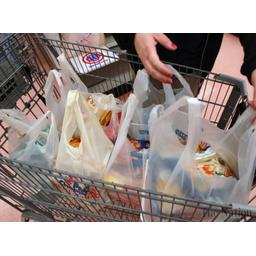plastic: (141, 110, 250, 218), (50, 104, 111, 185), (0, 96, 62, 172), (36, 50, 88, 118)
